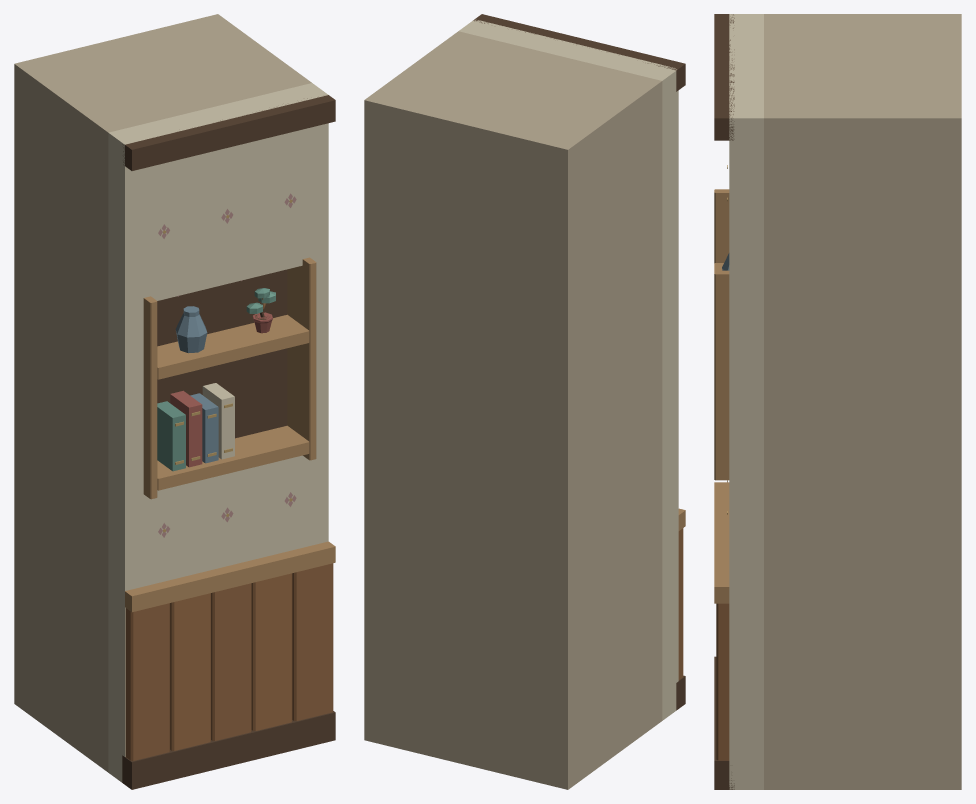
Rendered from wall_home_shelf.glb.
3 views of the same model, side by side, from view 1: azimuth 30°, elevation 25°; view 2: azimuth 150°, elevation 25°; view 3: azimuth 270°, elevation 25° (orthographic). The views are drawn at different scales.
Visible parts, largest first — view 1: face_front, geometry; view 2: geometry, face_front; view 3: geometry, face_front.
Part boxes in pixels (x1,y1,x2,y2): face_front: [108, 83, 335, 789]; geometry: [14, 14, 311, 772]; geometry: [364, 31, 662, 789]; face_front: [458, 14, 685, 720]; geometry: [764, 14, 961, 789]; face_front: [714, 14, 763, 789].
Bounding box in the file's own units: 1 × 3 × 1.
